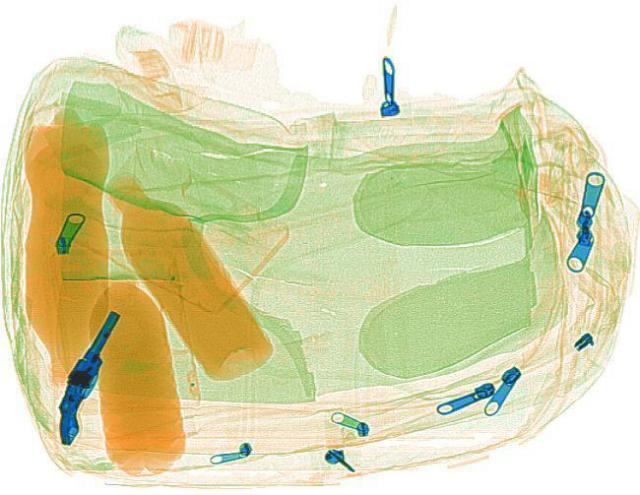Gun: (42, 301, 125, 443)
